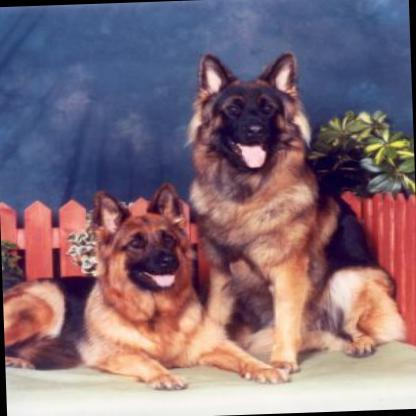German_shepherd: (186, 48, 409, 375), (0, 176, 290, 396)
